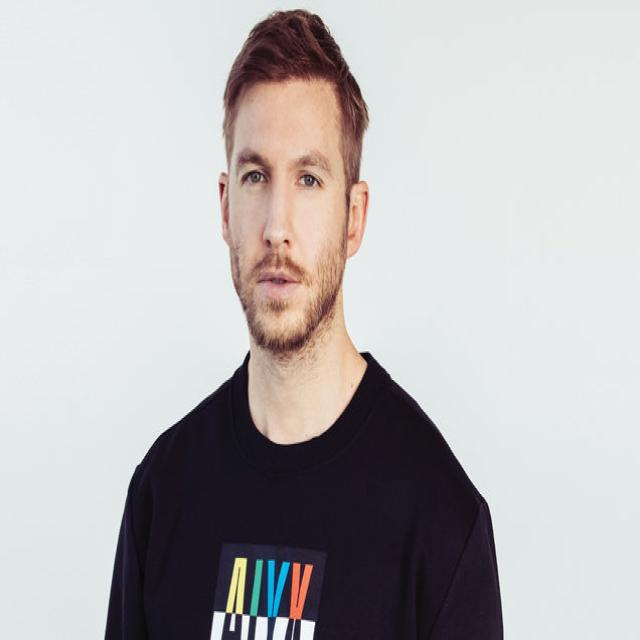human: (104, 1, 509, 640)
